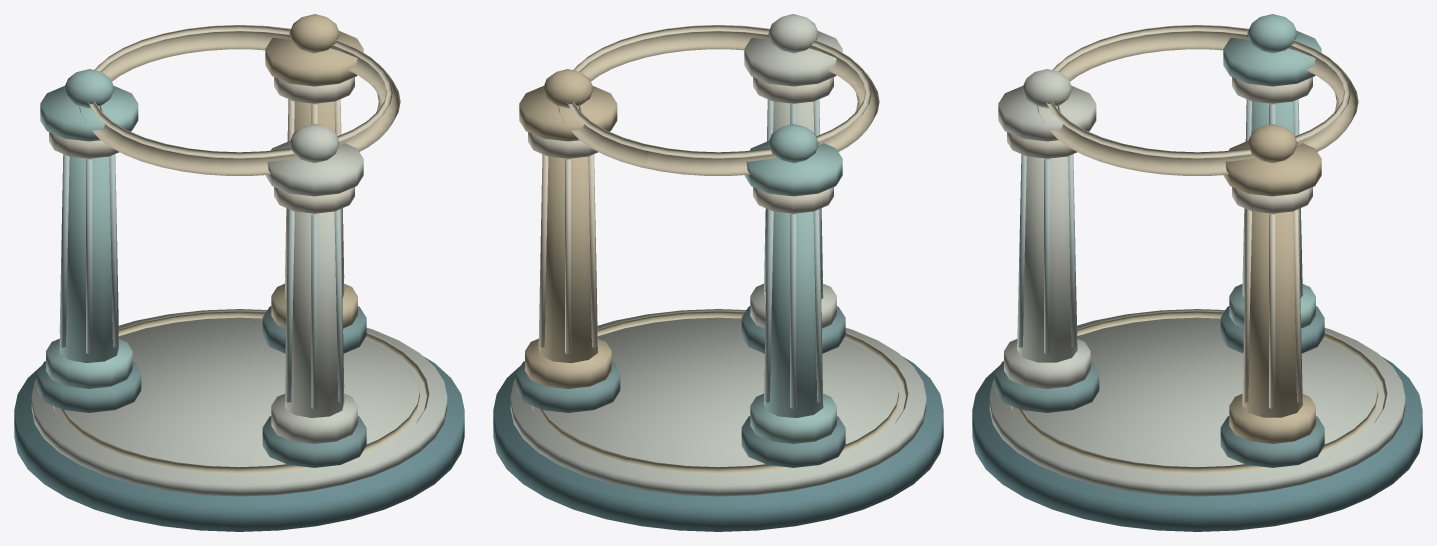
Rendered from ART-21.glb.
The picture shows the model from 3 angles, left to right: view 1: azimuth 30°, elevation 25°; view 2: azimuth 150°, elevation 25°; view 3: azimuth 270°, elevation 25°; orthographic projection.
Parts seen in each view (by area): view 1: world; view 2: world; view 3: world.
Boxes of the visible parts, x1,y1,x2,y2 form: world: (14,14,464,531); world: (493,14,943,531); world: (972,14,1422,531).
Bounding box in the file's own units: 2 × 1.79 × 2.
